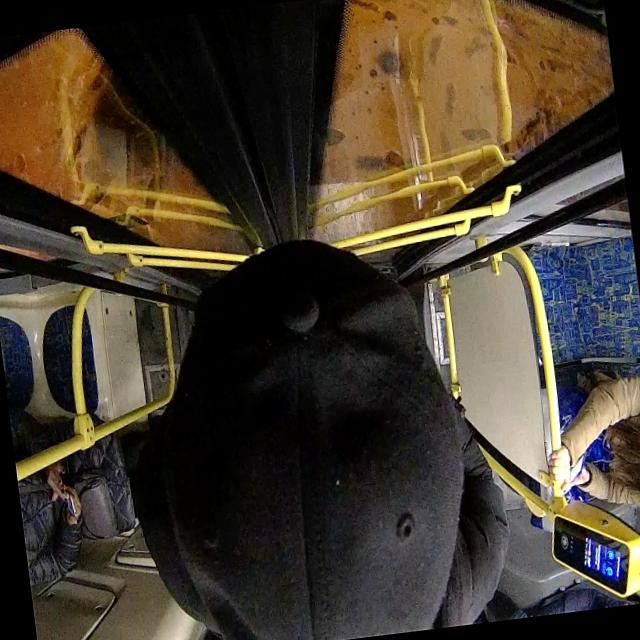bus-door: (0, 0, 620, 284)
